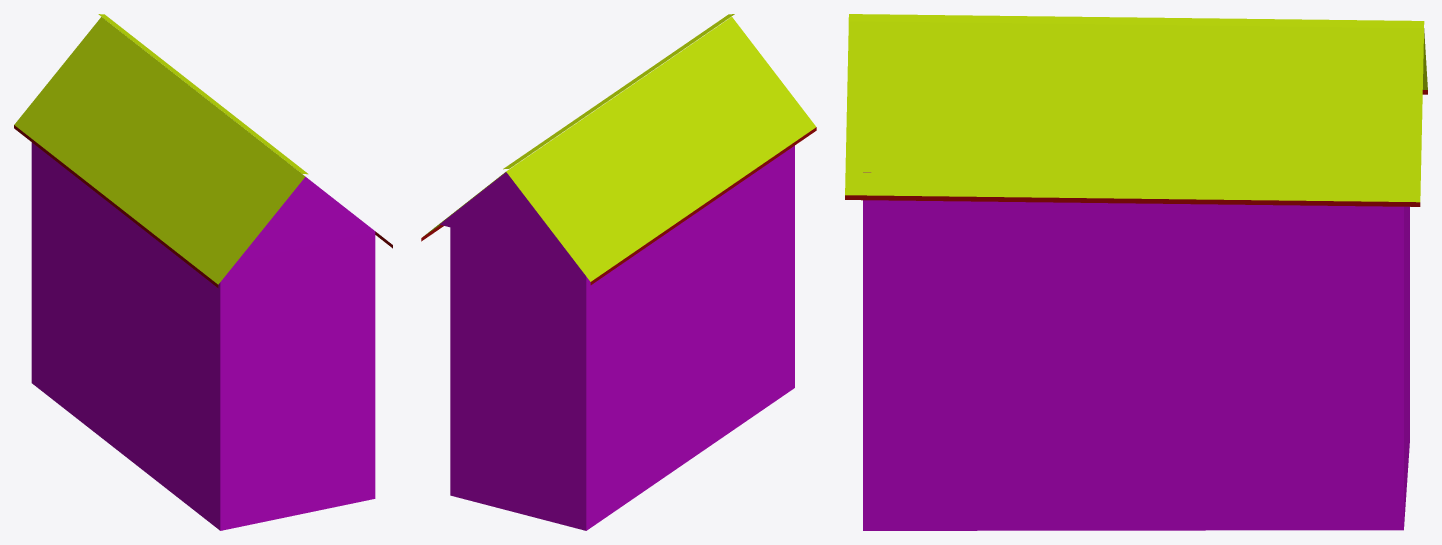
Rendered from bgj_232.glb.
The picture shows the model from 3 angles, left to right: view 1: azimuth 30°, elevation 25°; view 2: azimuth 150°, elevation 25°; view 3: azimuth 270°, elevation 25°; orthographic projection. The views are drawn at different scales.
Parts seen in each view (by area): view 1: bgj_232; view 2: bgj_232; view 3: bgj_232.
Boxes of the visible parts, x1,y1,x2,y2 form: bgj_232: [14, 14, 392, 530]; bgj_232: [421, 14, 816, 530]; bgj_232: [845, 14, 1427, 530].
Bounding box in the file's own units: 6.47 × 11.8 × 13.38.
